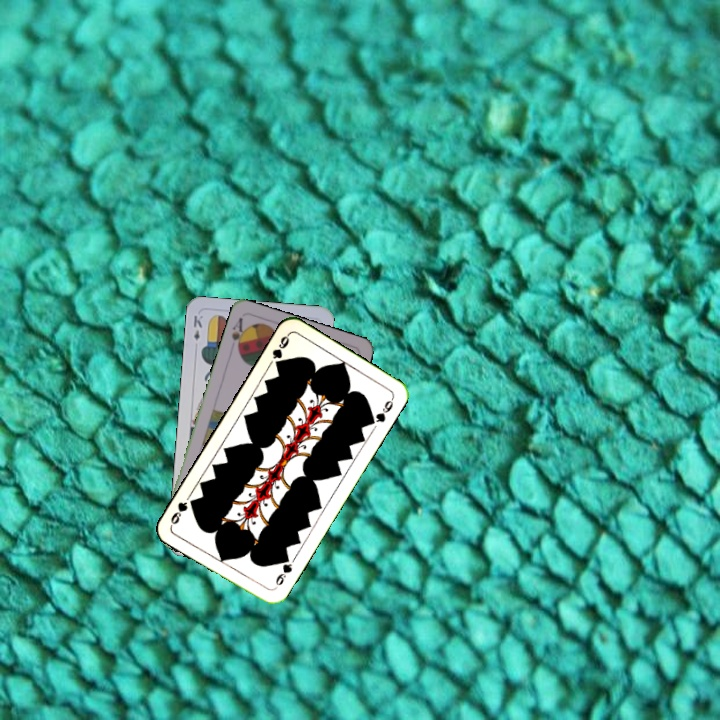EK: (189, 311, 205, 343)
G9: (268, 330, 292, 370), (271, 552, 295, 591)
SA: (228, 313, 249, 355)
